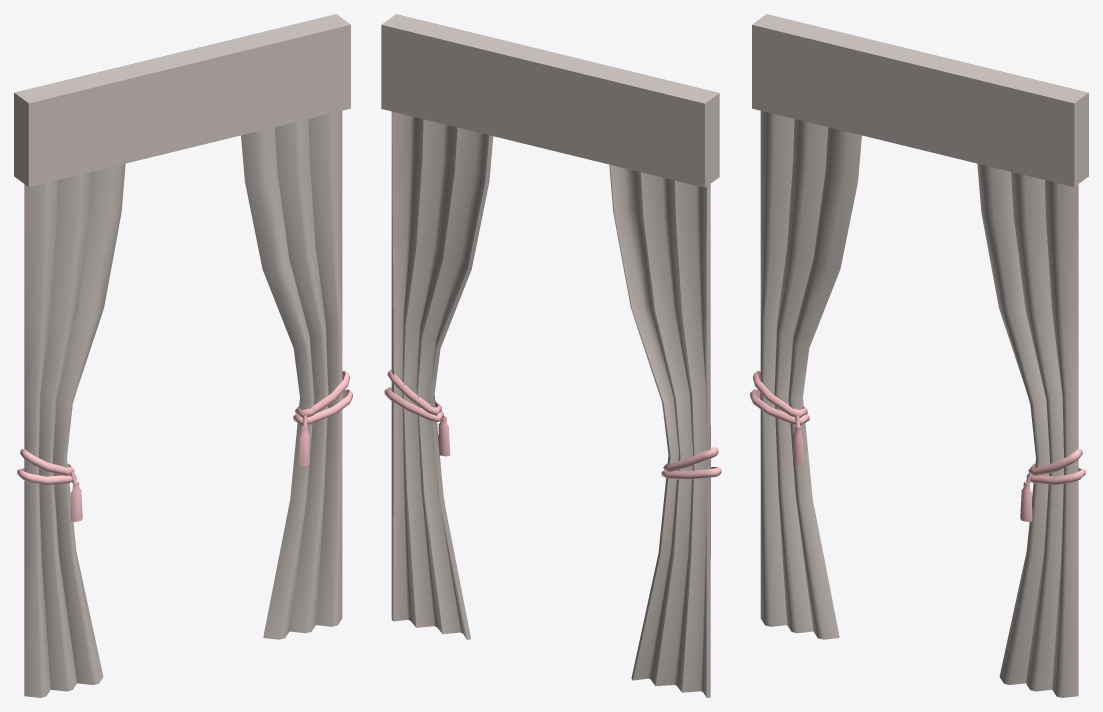
File: curtain2_K.fbx
The picture shows the model from 3 angles, left to right: view 1: azimuth 30°, elevation 25°; view 2: azimuth 150°, elevation 25°; view 3: azimuth 330°, elevation 25°; orthographic projection.
Visible parts, largest first — view 1: polySurface10, polySurface1, polySurface7; view 2: polySurface10, polySurface1, polySurface7; view 3: polySurface10, polySurface1, polySurface7.
Boxes of the visible parts, left/top/right/bottom form: polySurface10: left=24, top=111, right=342, bottom=697; polySurface1: left=14, top=14, right=350, bottom=186; polySurface7: left=17, top=370, right=352, bottom=521; polySurface10: left=391, top=111, right=710, bottom=697; polySurface1: left=381, top=14, right=719, bottom=187; polySurface7: left=384, top=369, right=721, bottom=479; polySurface10: left=760, top=111, right=1078, bottom=697; polySurface1: left=752, top=14, right=1088, bottom=186; polySurface7: left=750, top=370, right=1085, bottom=521.
Size of the model in its own units: 126 by 218 by 11.38.
